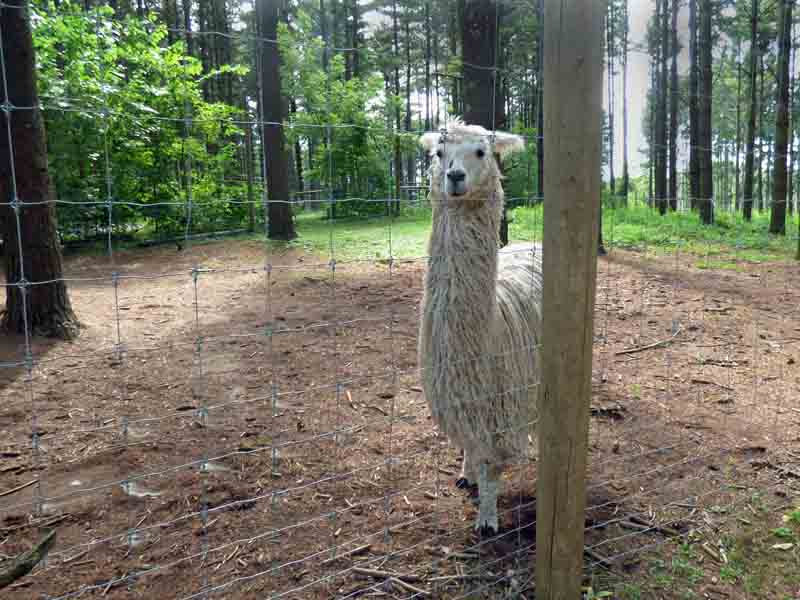alpaca: (415, 113, 542, 535)
